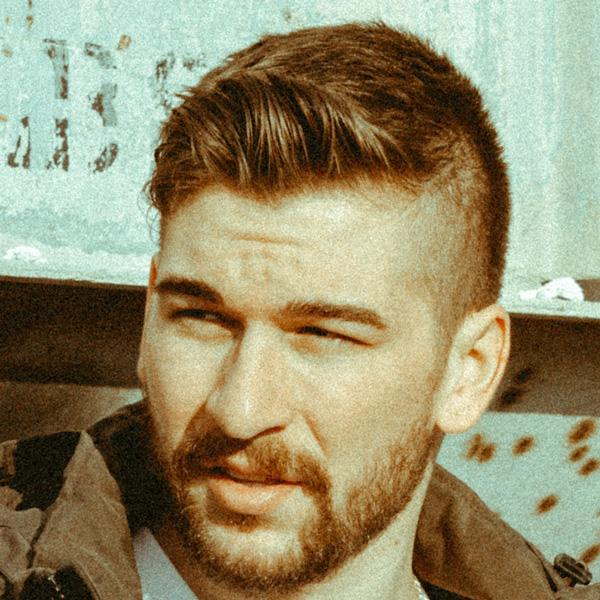Eyes: (279, 310, 377, 362), (161, 294, 239, 343)
